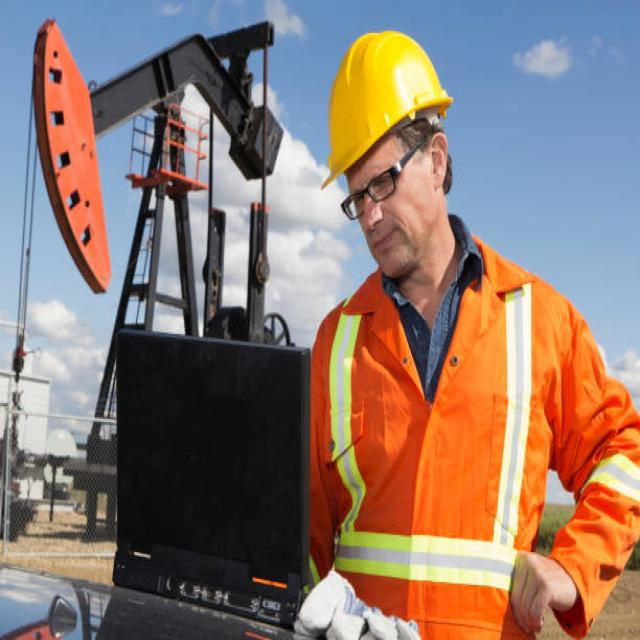without_helmet: (346, 112, 457, 283)
